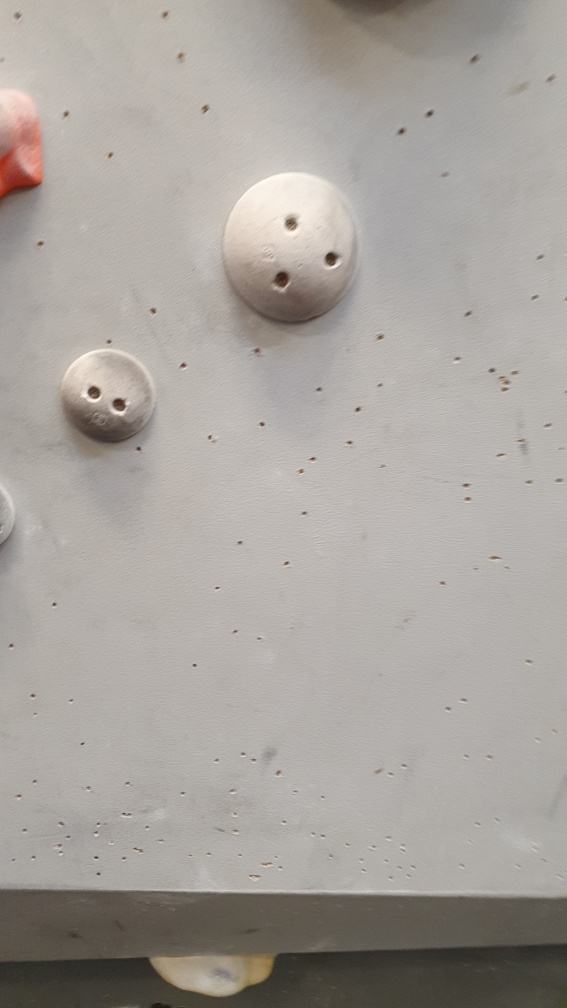Sloper: (217, 165, 366, 329), (58, 345, 164, 449)
